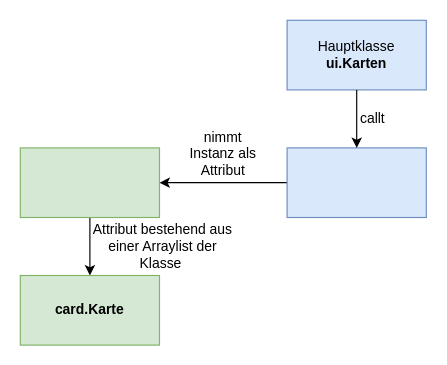
Some shapes in this 447 by 365 pixel diagram are drawn without their labels. The shapes that lost their labels are listed below. From the top down, each one's centre as x and y in pixels, then its label:
At pixel 89 182: "card.KartenDeck".
At pixel 356 182: "Grafikfenster ui.MainWindow".
